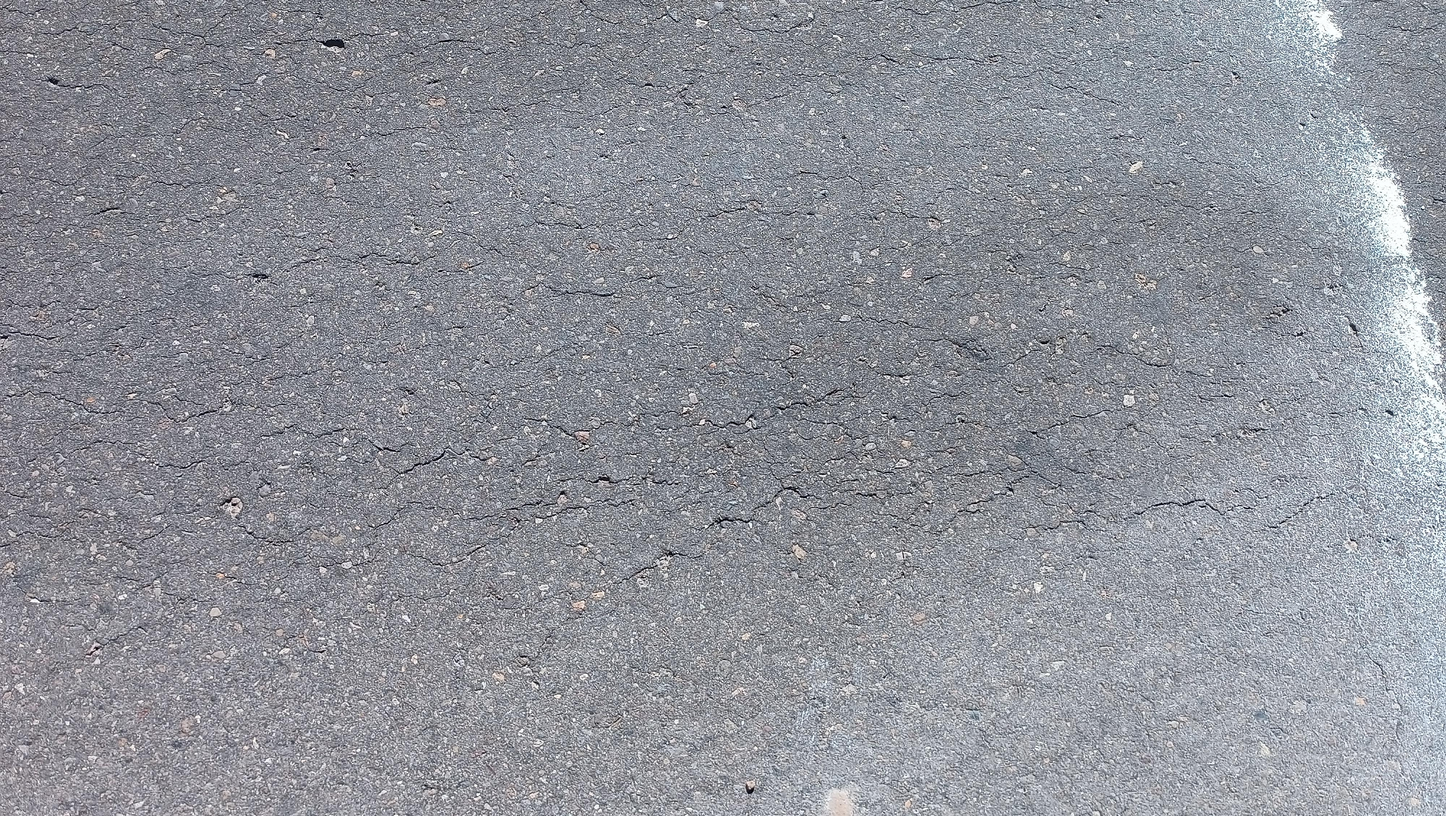PIEL DE COCODRILO: (0, 168, 1419, 697), (0, 0, 1257, 289)
